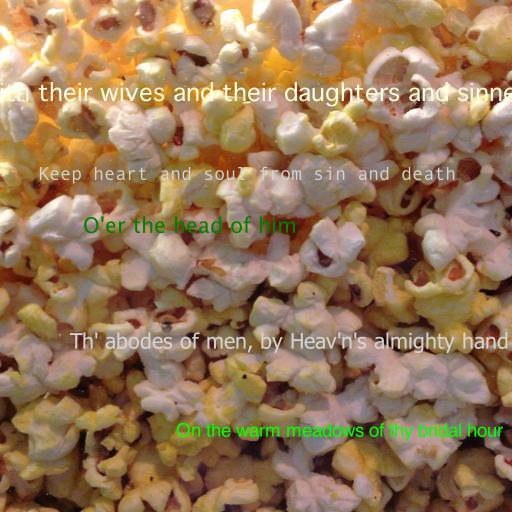Andale Mono: (38, 166, 456, 184)
Geneva: (0, 82, 512, 107)
Helvetica: (175, 422, 503, 441)
Lucida Grande: (83, 216, 297, 234)
Tahoma: (69, 332, 509, 354)
